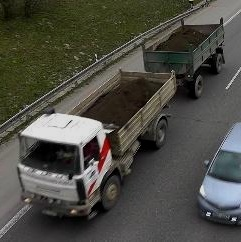car: (194, 122, 241, 227)
